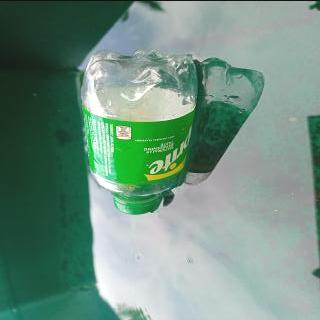bottle: (78, 44, 200, 216)
